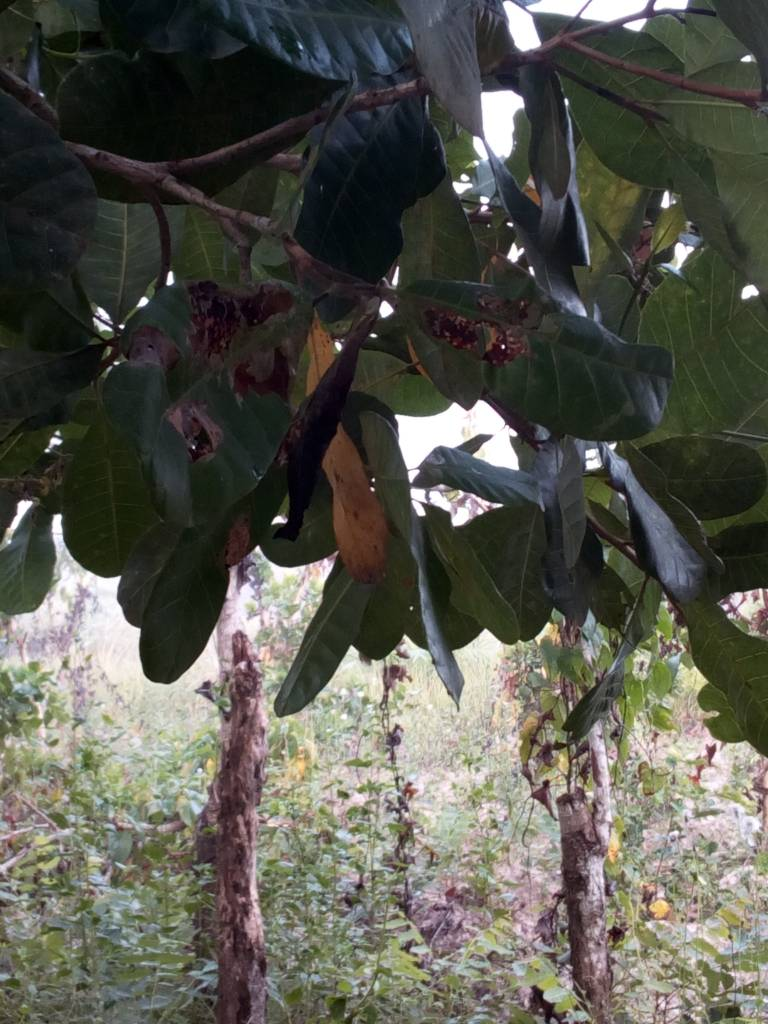Dysdercus wolkerii: (99, 280, 322, 552)
